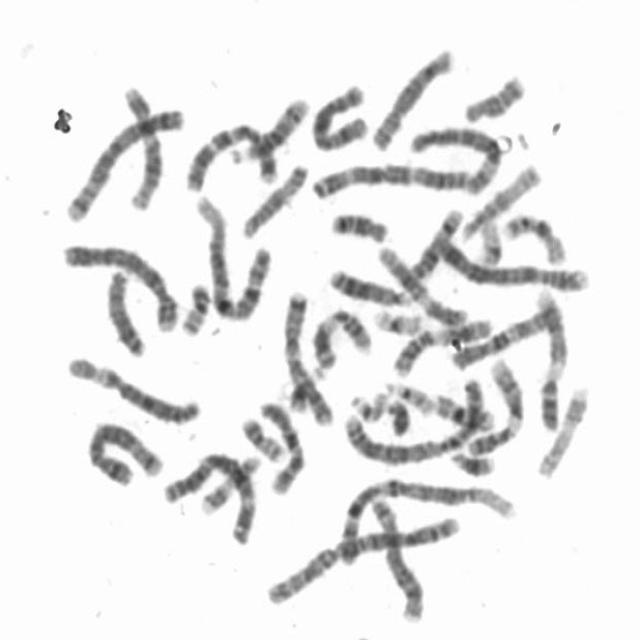A1: (333, 472, 521, 564), (190, 188, 274, 322)
A2: (260, 507, 464, 608), (338, 372, 488, 467)
A3: (158, 446, 260, 547), (306, 156, 478, 202)
B4: (57, 236, 180, 334), (422, 226, 590, 293)
B5: (60, 98, 186, 224), (83, 415, 168, 489)
C10: (446, 297, 566, 373), (256, 395, 308, 496)
C11: (388, 312, 495, 378), (307, 302, 375, 370)
C12: (371, 238, 469, 328), (119, 81, 167, 212)
C6: (60, 348, 203, 427), (405, 121, 502, 196)
C7: (278, 286, 336, 427), (182, 118, 280, 192)
C8: (366, 42, 456, 152), (366, 492, 428, 624)
C9: (464, 350, 528, 458), (531, 284, 570, 434)
D13: (102, 263, 149, 360), (326, 262, 415, 308)
D14: (227, 90, 313, 167), (404, 202, 467, 281)
D15: (456, 158, 544, 242), (236, 158, 311, 240)
E16: (498, 206, 570, 266), (428, 387, 497, 432)
E17: (532, 379, 592, 480), (195, 448, 263, 519)
E18: (459, 67, 528, 124), (325, 204, 393, 245)
F19: (368, 302, 426, 337), (472, 215, 506, 268)
F20: (236, 409, 287, 464), (176, 275, 213, 338)
G21: (285, 362, 325, 413), (445, 444, 498, 479)
G22: (380, 375, 436, 417), (346, 386, 391, 424)
X: (306, 78, 372, 154)
Y: (383, 392, 413, 437)
